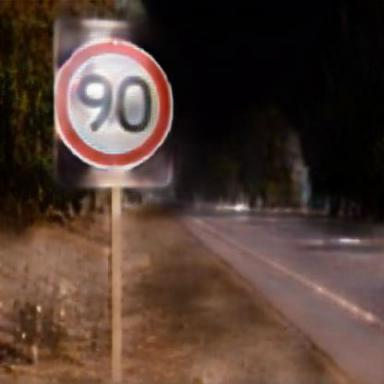Speed_limit_90: (56, 43, 173, 165)
